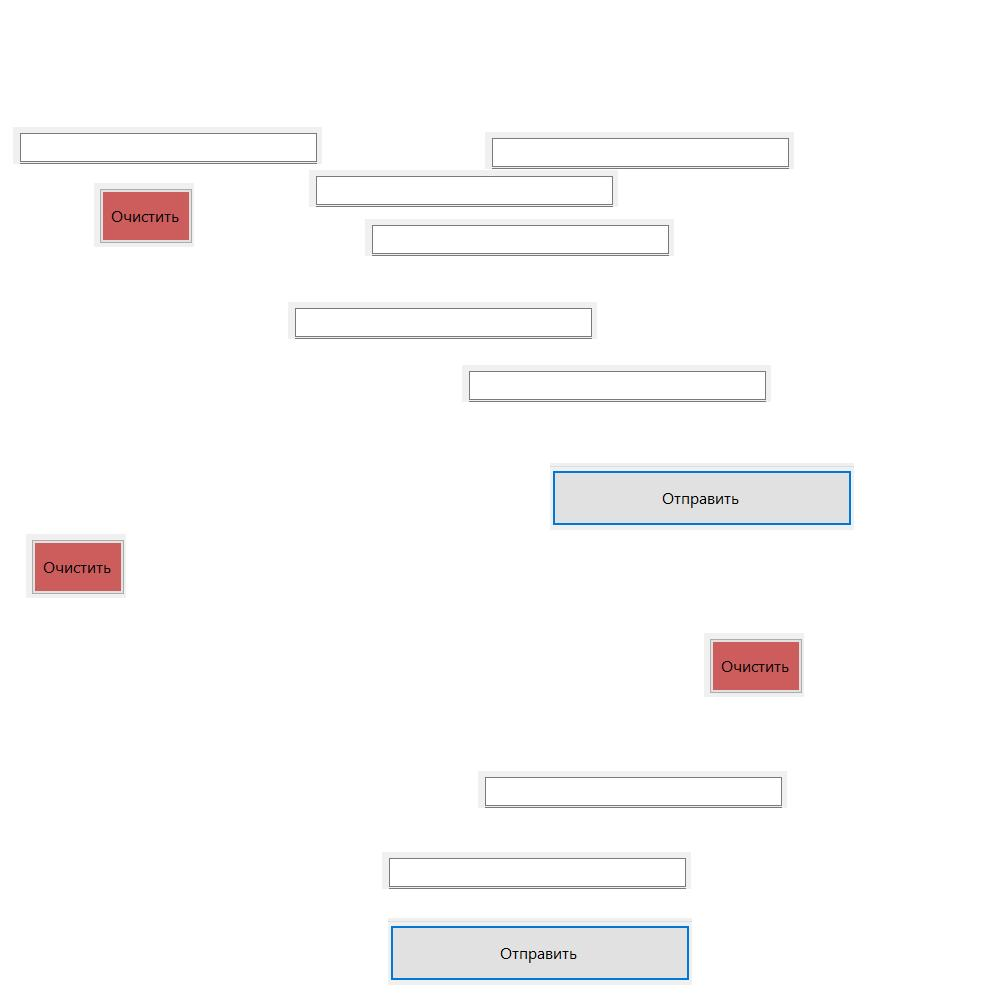Button: (388, 918, 692, 985), (550, 463, 854, 530), (704, 633, 804, 697), (26, 534, 126, 598), (94, 183, 194, 247)
EditText-: (382, 852, 691, 889), (485, 132, 794, 169), (309, 170, 618, 207), (478, 771, 787, 808), (365, 219, 674, 256), (288, 302, 597, 339), (462, 365, 771, 402), (13, 127, 322, 164)
